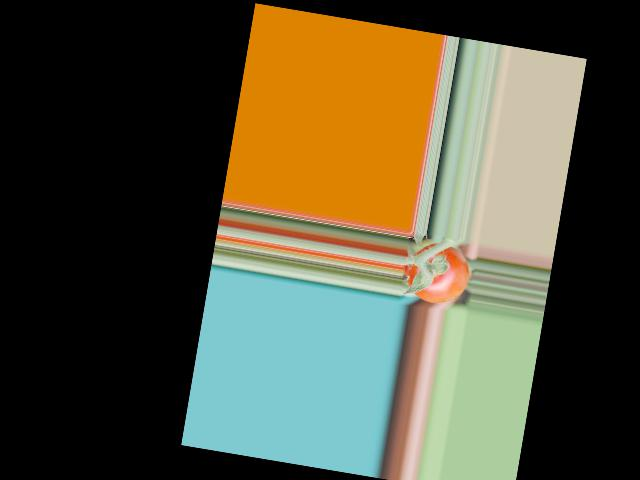tomato: (399, 238, 473, 308)
